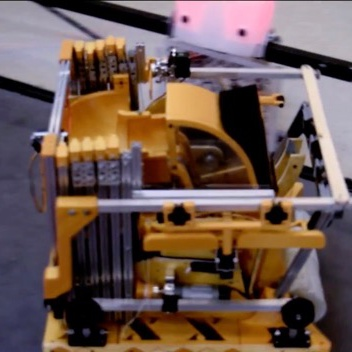robot: (26, 33, 352, 352)
